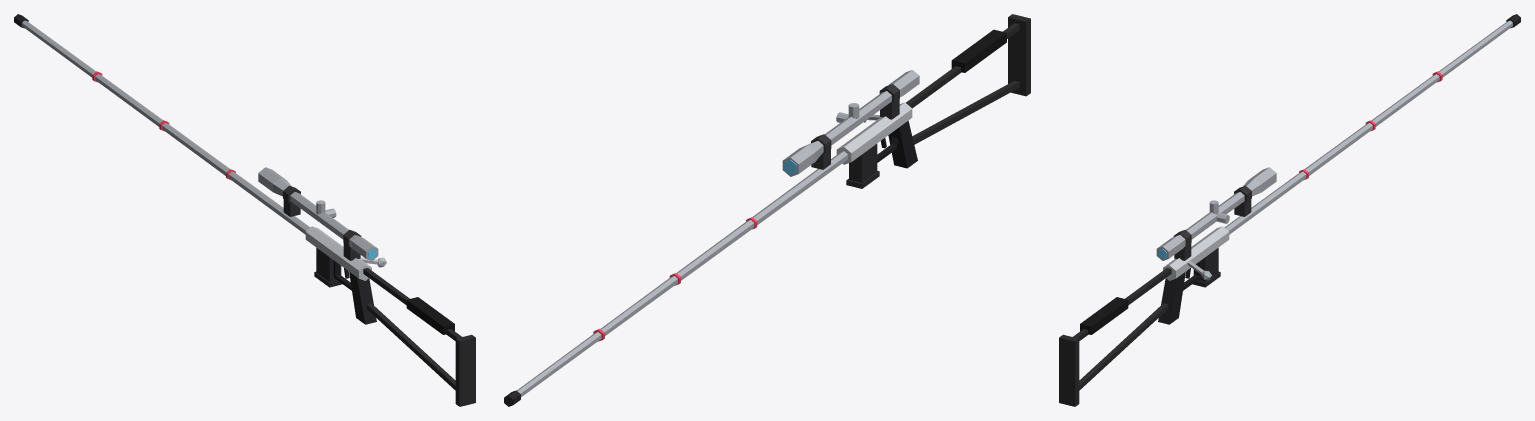
File: Needle.obj
3 renders of one model, left to right at view 1: azimuth 30°, elevation 25°; view 2: azimuth 150°, elevation 25°; view 3: azimuth 330°, elevation 25°, orthographic. The views are drawn at different scales.
Parts seen in each view (by area): view 1: Stock, Barrel, Scope, Body, Grip, Pad, Mount, Magazine; view 2: Barrel, Stock, Scope, Body, Pad, Magazine, Mount, Grip; view 3: Stock, Barrel, Scope, Body, Grip, Pad, Mount, Magazine.
Part boxes in pixels (x1,y1,x2,y2): Stock: [363, 268, 475, 406]; Barrel: [22, 20, 310, 234]; Scope: [258, 167, 378, 260]; Body: [305, 226, 371, 280]; Grip: [349, 271, 376, 324]; Pad: [406, 297, 454, 334]; Mount: [283, 185, 361, 260]; Magazine: [314, 248, 342, 287]; Barrel: [516, 151, 847, 396]; Stock: [906, 14, 1030, 144]; Scope: [782, 70, 919, 176]; Body: [836, 102, 912, 164]; Pad: [951, 29, 1006, 72]; Magazine: [846, 144, 879, 188]; Mount: [811, 84, 899, 169]; Grip: [888, 120, 917, 168]; Stock: [1059, 268, 1171, 406]; Barrel: [1224, 20, 1512, 234]; Scope: [1156, 167, 1276, 260]; Body: [1163, 226, 1229, 280]; Grip: [1158, 271, 1185, 324]; Pad: [1080, 297, 1128, 334]; Mount: [1173, 185, 1251, 260]; Magazine: [1192, 248, 1220, 287].
Size of the model in its own units: 0.3357 by 0.785 by 6.73.
